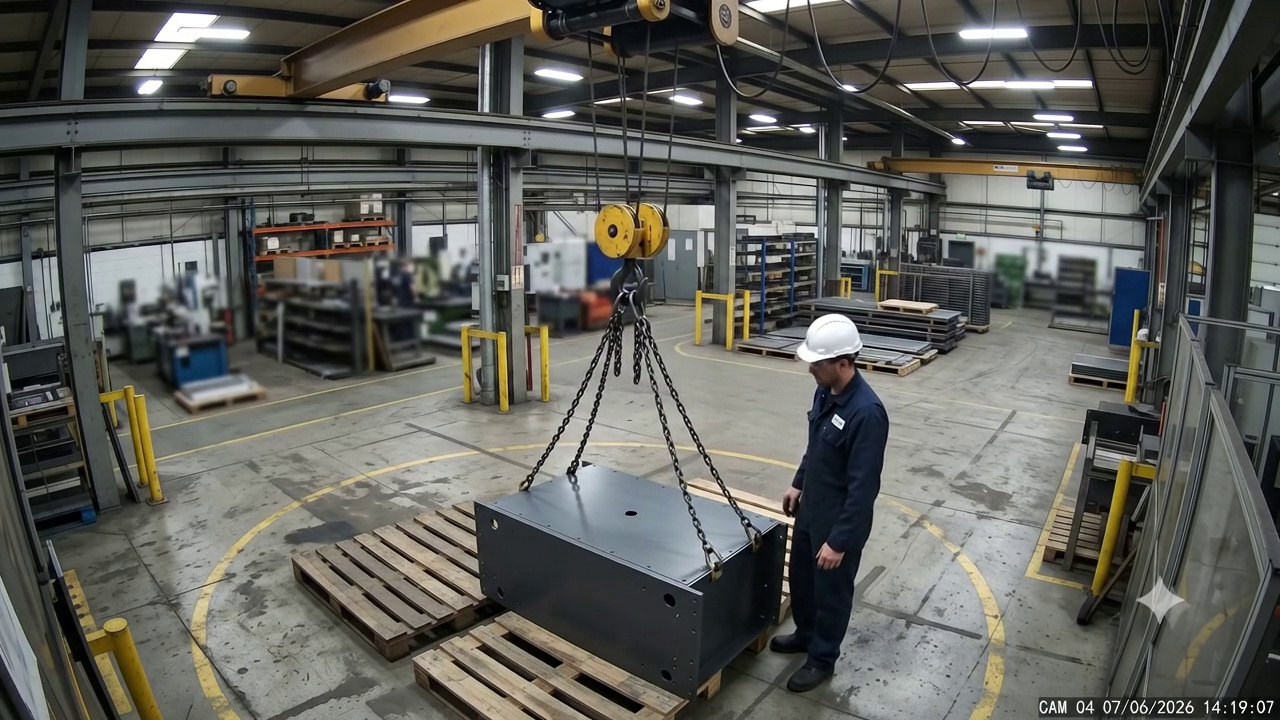person: (772, 314, 890, 698)
